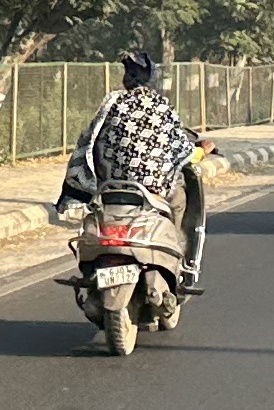BikeWithRider: (44, 44, 229, 360)
NoHelmet: (111, 45, 163, 98)
